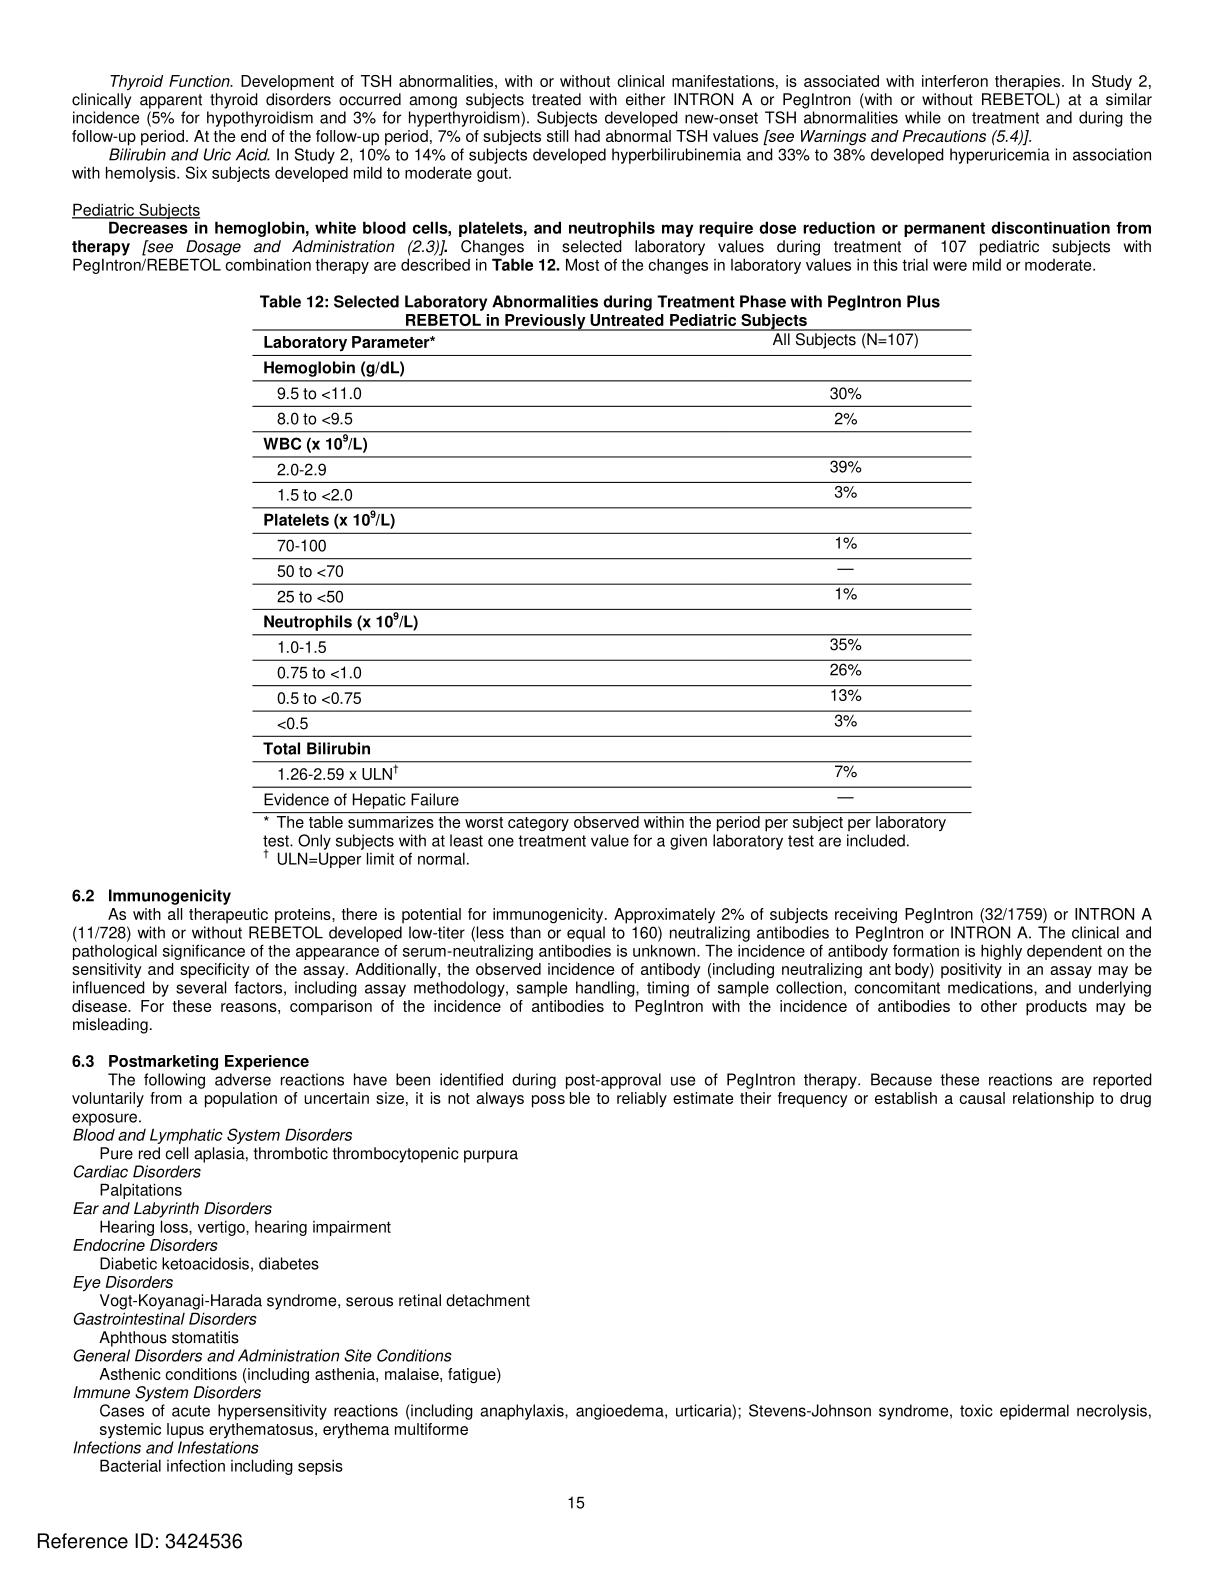partial_lined: (251, 327, 975, 814)
